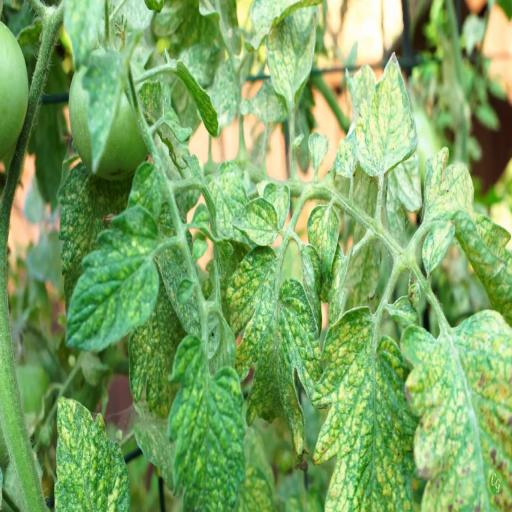disease_tomato: (400, 308, 512, 512), (312, 302, 418, 512), (222, 242, 322, 456), (424, 144, 512, 324), (165, 326, 248, 512), (65, 204, 161, 356), (52, 394, 130, 512), (82, 25, 140, 179), (356, 46, 418, 182), (264, 0, 318, 109), (198, 156, 252, 242), (307, 205, 341, 291), (230, 194, 279, 248), (420, 219, 456, 275)
